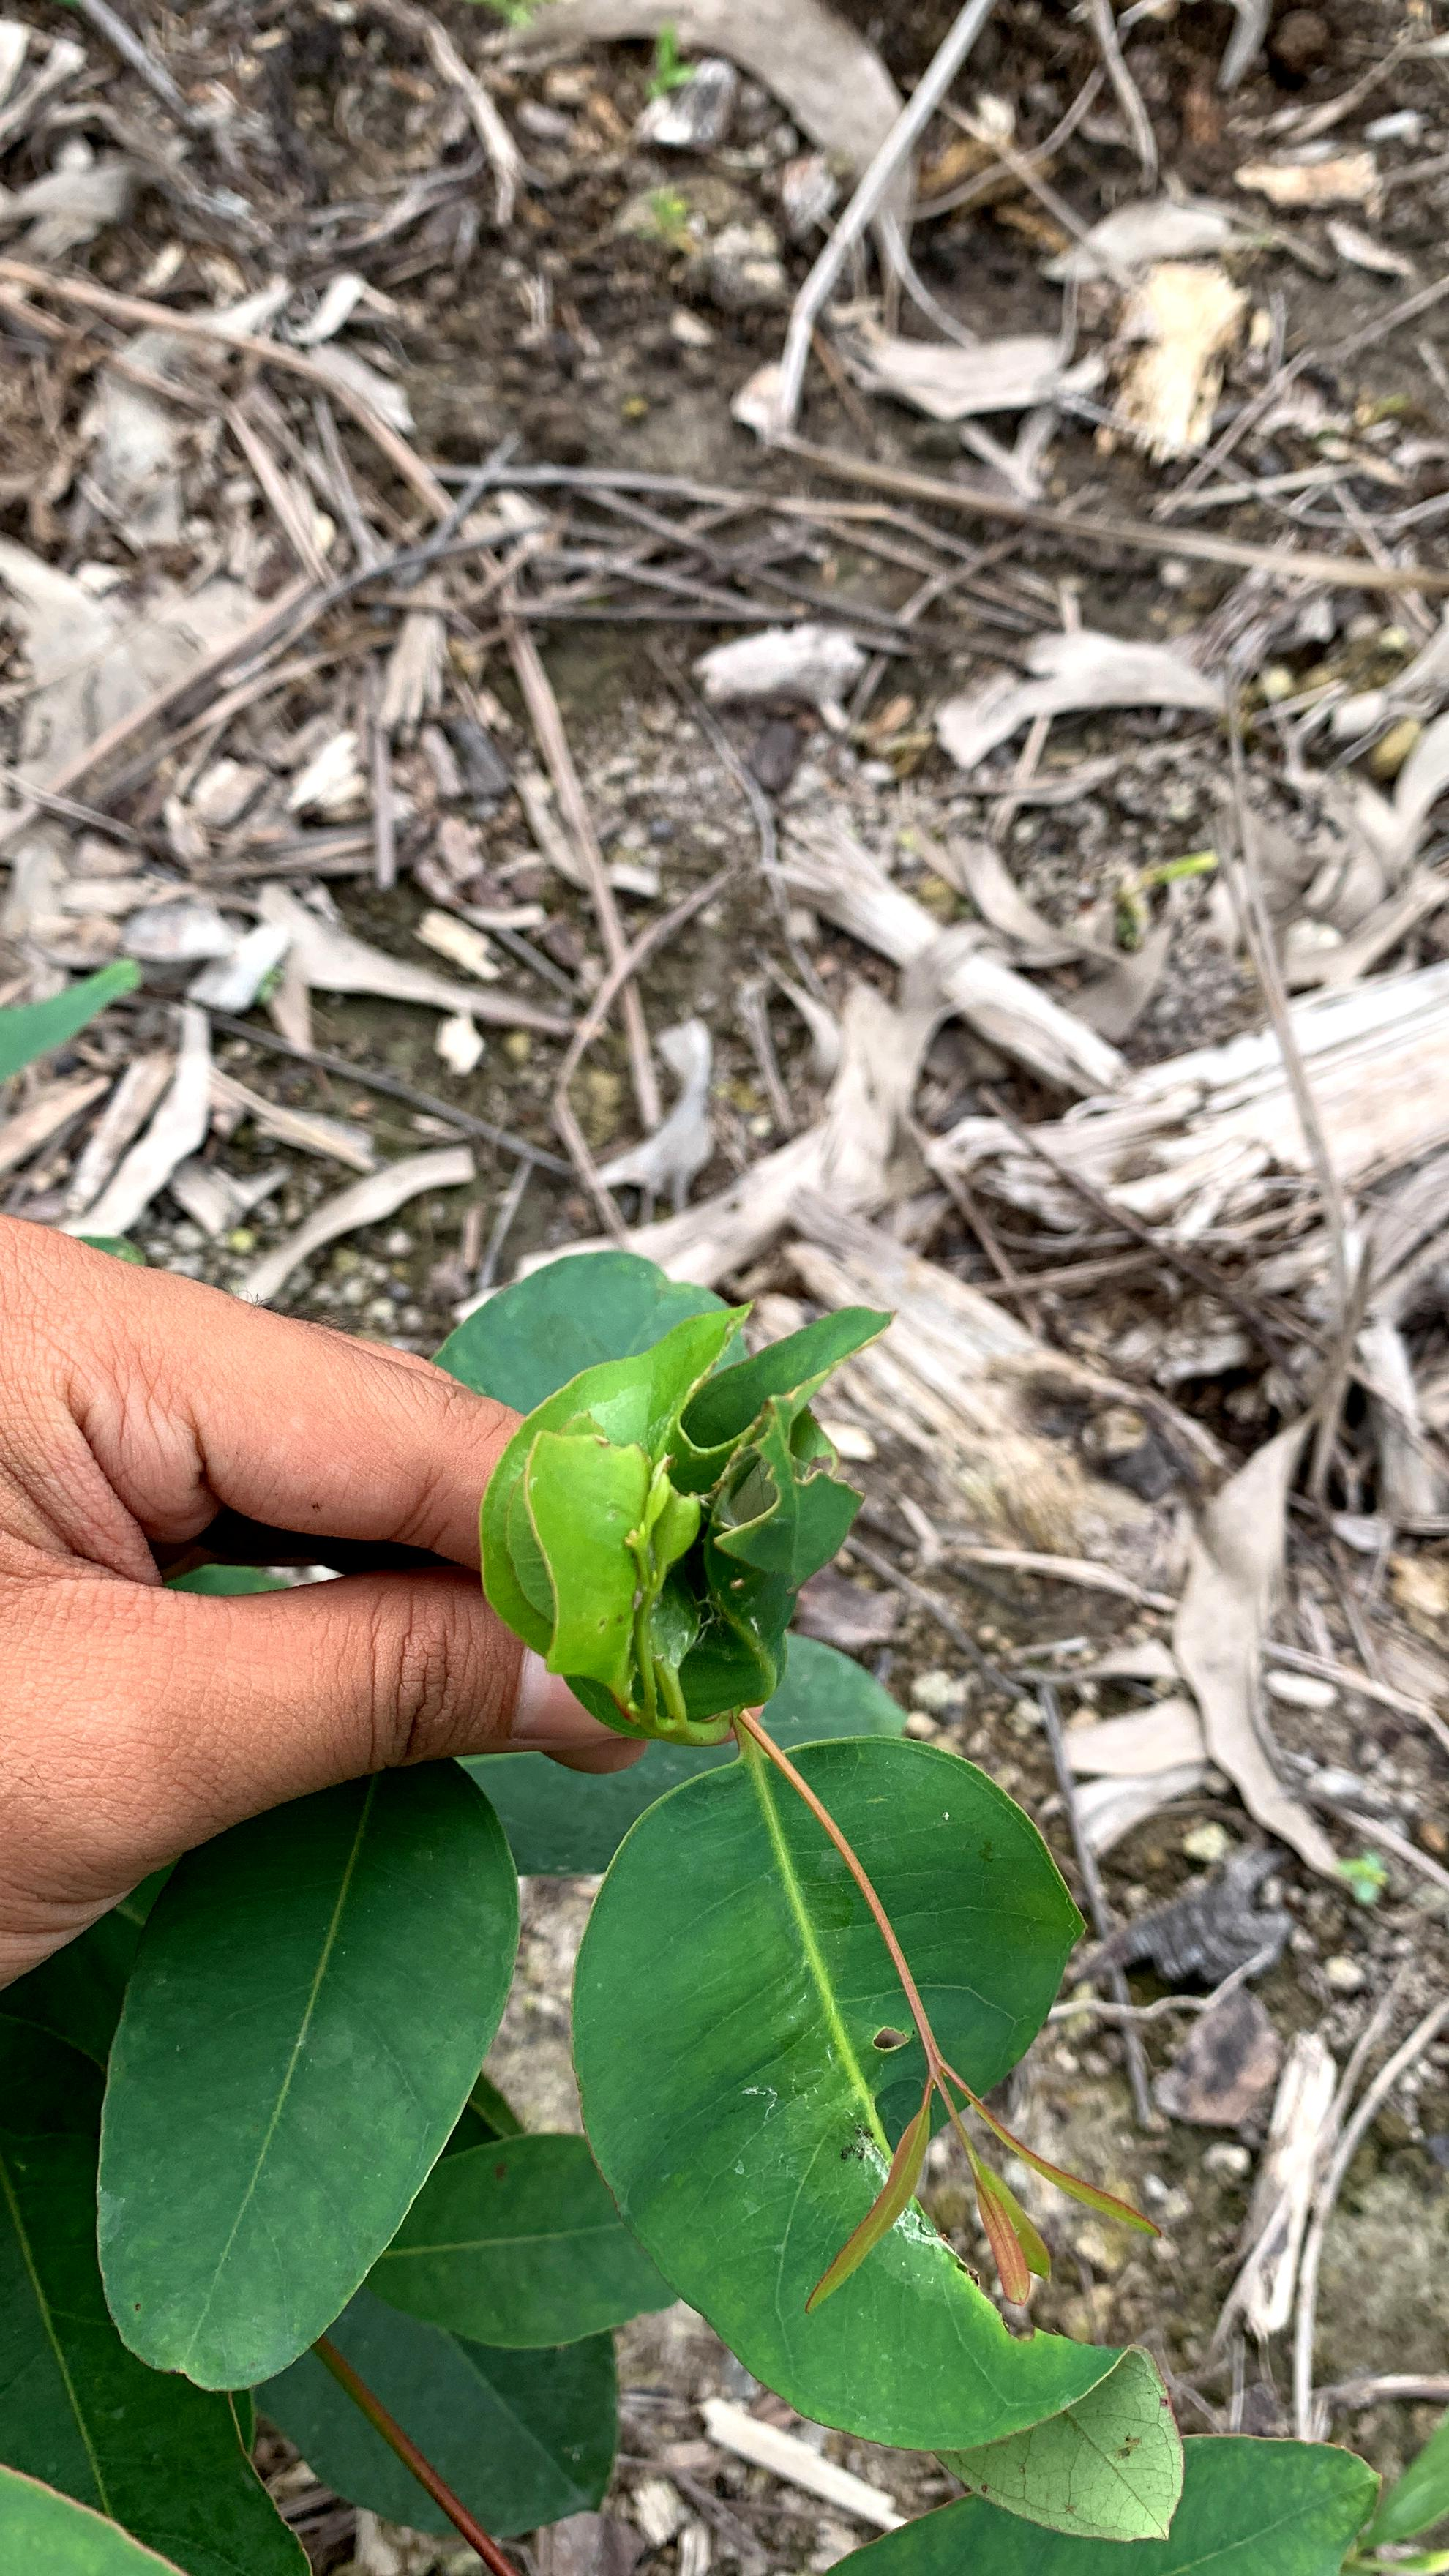Leaf Roller - Leaf: (499, 1359, 828, 1727)
